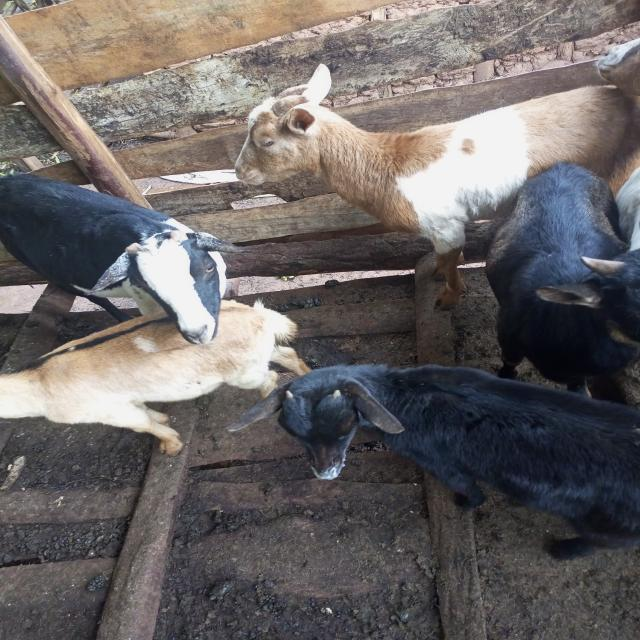goat: (0, 136, 303, 384)
